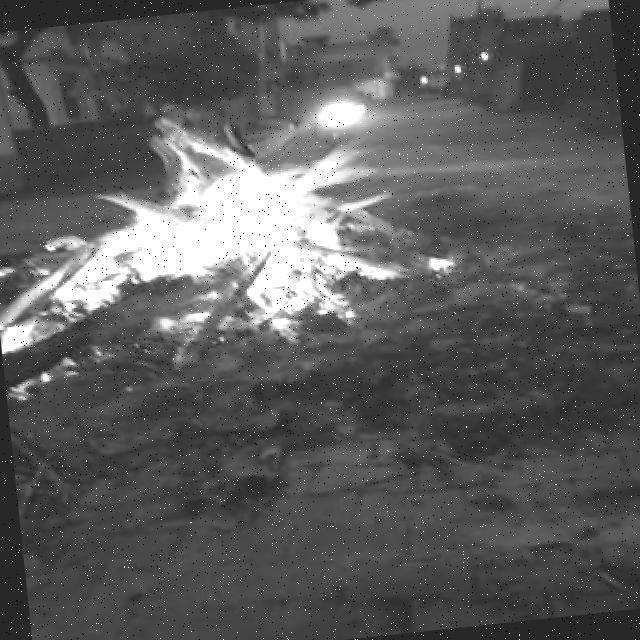Fire: (64, 81, 426, 365)
